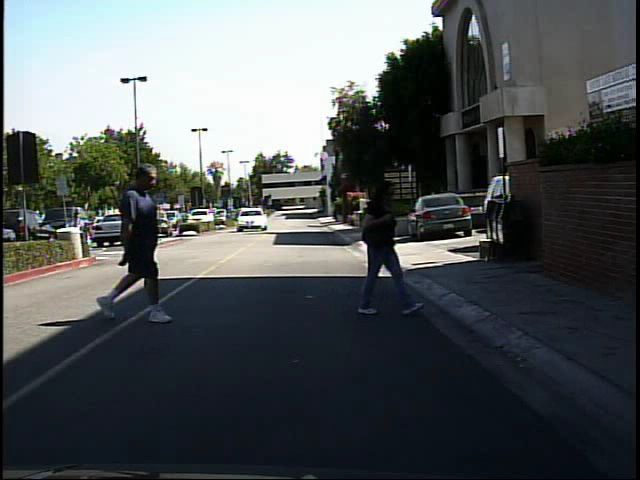person: (90, 160, 185, 327), (352, 172, 427, 321), (66, 203, 87, 257)
